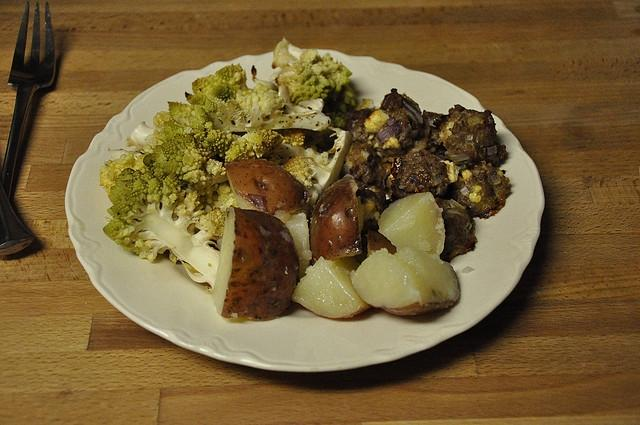broccoli: (103, 166, 225, 288), (158, 89, 332, 142), (136, 129, 242, 204), (272, 38, 358, 126), (192, 63, 252, 103), (225, 130, 284, 164), (280, 156, 314, 190), (185, 91, 207, 106)
potato: (210, 205, 300, 321), (348, 247, 460, 317), (292, 255, 371, 319), (308, 175, 364, 265), (224, 159, 310, 215), (377, 192, 446, 255), (285, 210, 313, 280), (365, 230, 398, 258)
